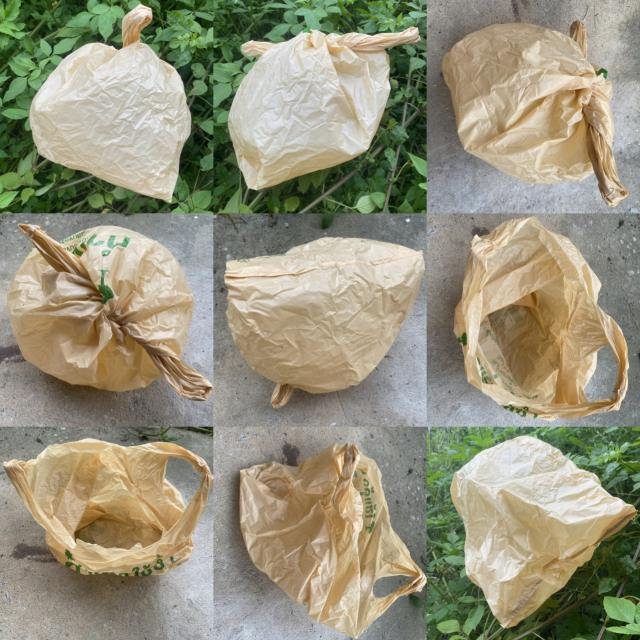Single-layer Plastic: (240, 442, 425, 638), (454, 216, 629, 420), (451, 436, 636, 628), (8, 226, 212, 400), (441, 21, 628, 206), (225, 238, 425, 408), (30, 5, 191, 201), (229, 26, 420, 189), (4, 439, 212, 576)
